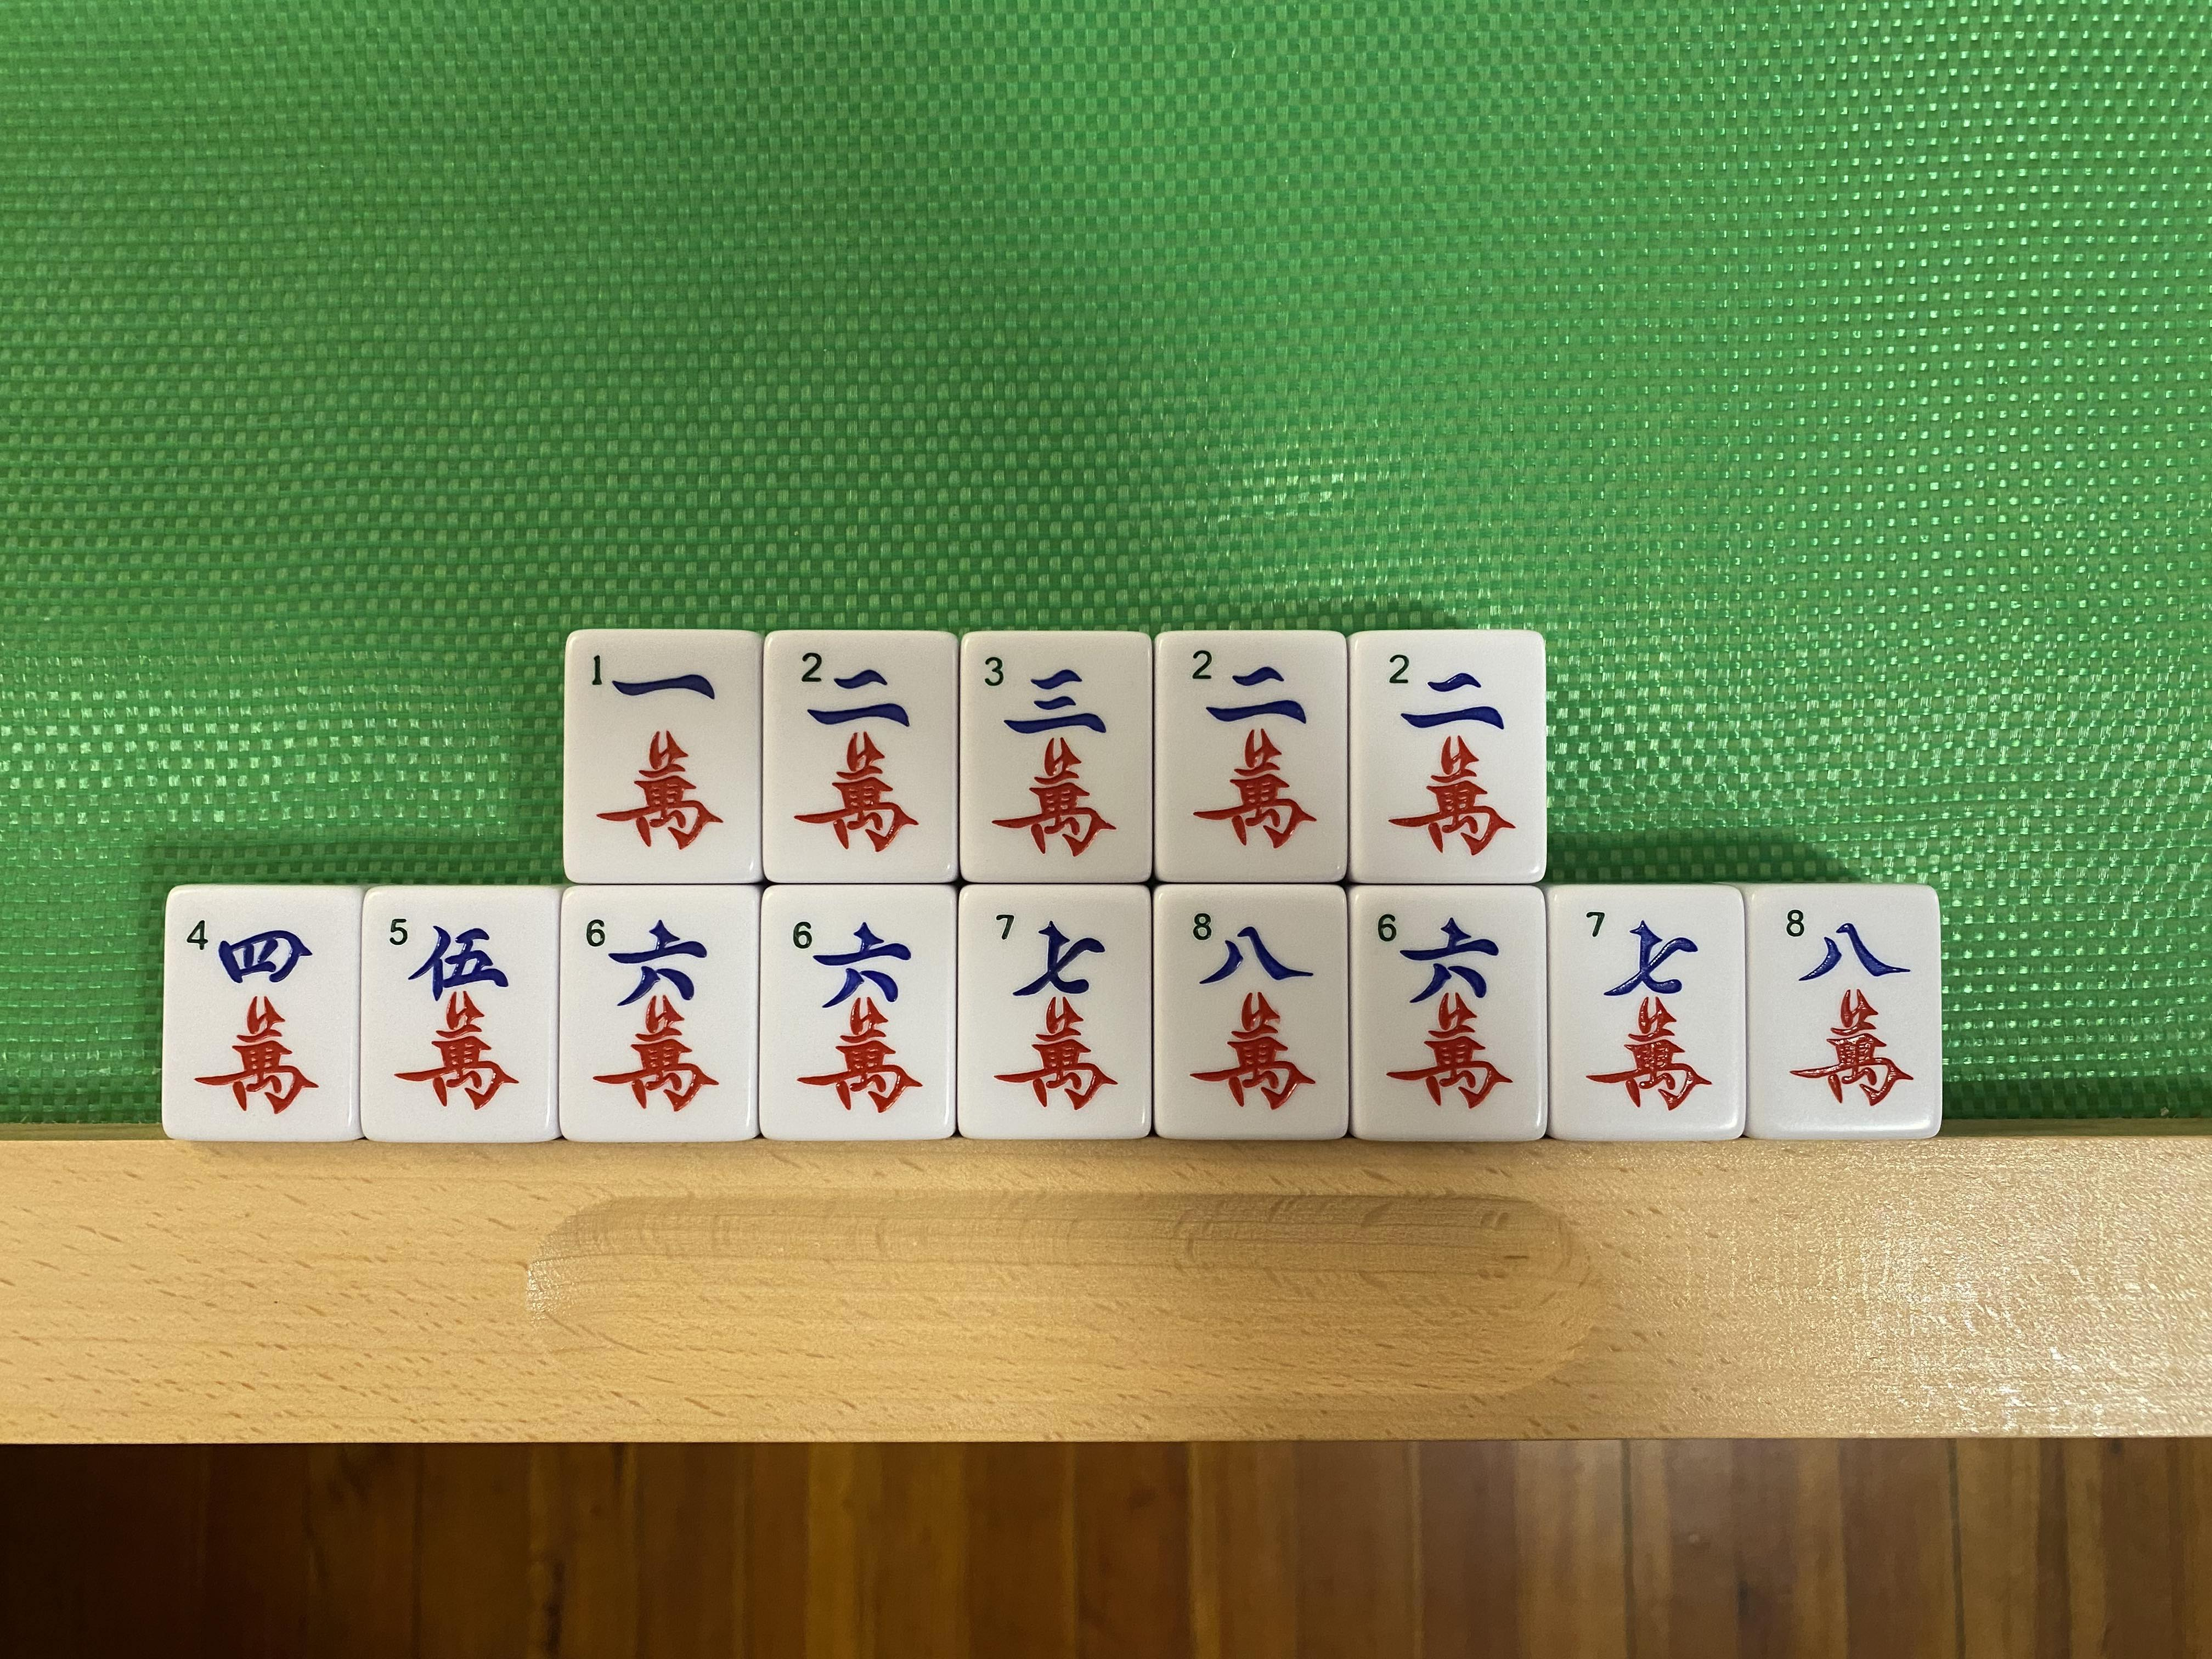character-eight: (1155, 885, 1346, 1136), (1749, 889, 1933, 1133)
character-five: (362, 889, 559, 1140)
character-four: (164, 889, 359, 1134)
character-one: (564, 633, 763, 884)
character-seven: (958, 887, 1150, 1138), (1554, 889, 1743, 1138)
character-six: (563, 889, 761, 1143), (763, 889, 954, 1141), (1353, 889, 1547, 1138)
character-three: (961, 634, 1151, 882)
character-two: (1350, 633, 1547, 884), (765, 636, 960, 884), (1155, 633, 1346, 880)
